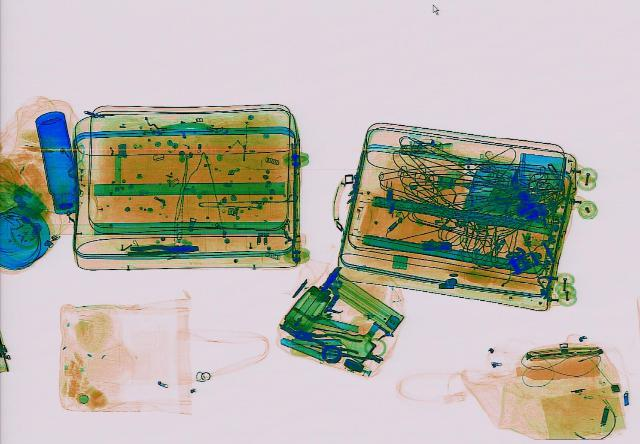Pliers: (288, 324, 366, 353), (125, 241, 198, 255)
